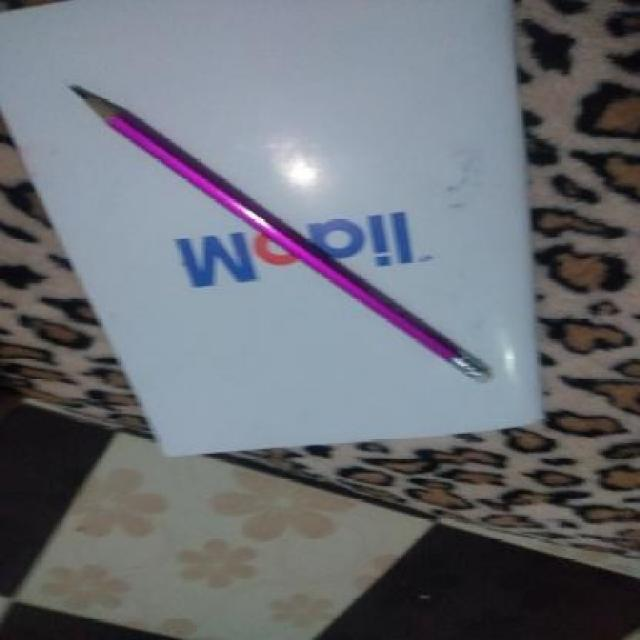pencil: (60, 75, 132, 131)
